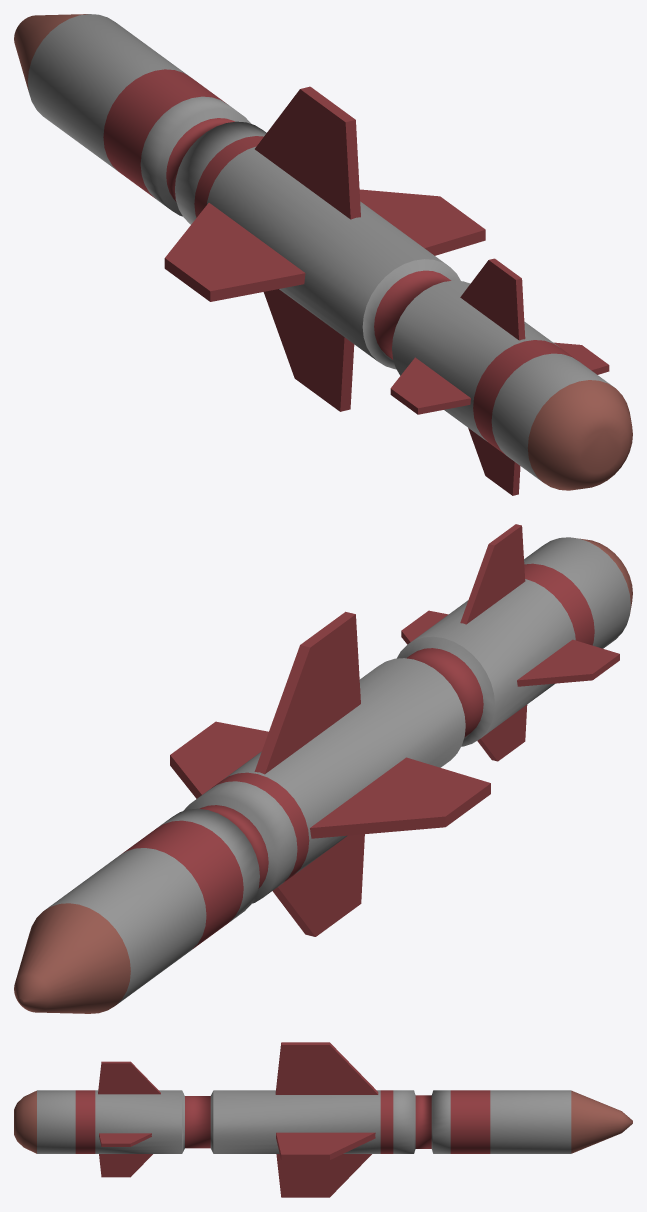
The model's file is Missile.fbx.
3 views of the same model, one above another, from view 1: azimuth 30°, elevation 25°; view 2: azimuth 150°, elevation 25°; view 3: azimuth 270°, elevation 25° (orthographic). The views are drawn at different scales.
Visible parts, largest first — view 1: Missile, Wing1, Wing2; view 2: Missile, Wing1, Wing2; view 3: Missile, Wing1, Wing2.
Part boxes in pixels (box(x1,y1,x2,y2)): Missile: box(14, 14, 632, 490); Wing1: box(164, 86, 485, 411); Wing2: box(390, 258, 609, 495); Missile: box(14, 537, 632, 1013); Wing1: box(170, 611, 490, 936); Wing2: box(401, 524, 619, 761); Missile: box(14, 1090, 632, 1153); Wing1: box(275, 1042, 378, 1197); Wing2: box(98, 1061, 160, 1177).
Bounding box in the file's own units: 534 × 534 × 1947.
